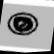correct: (6, 9, 40, 40)
